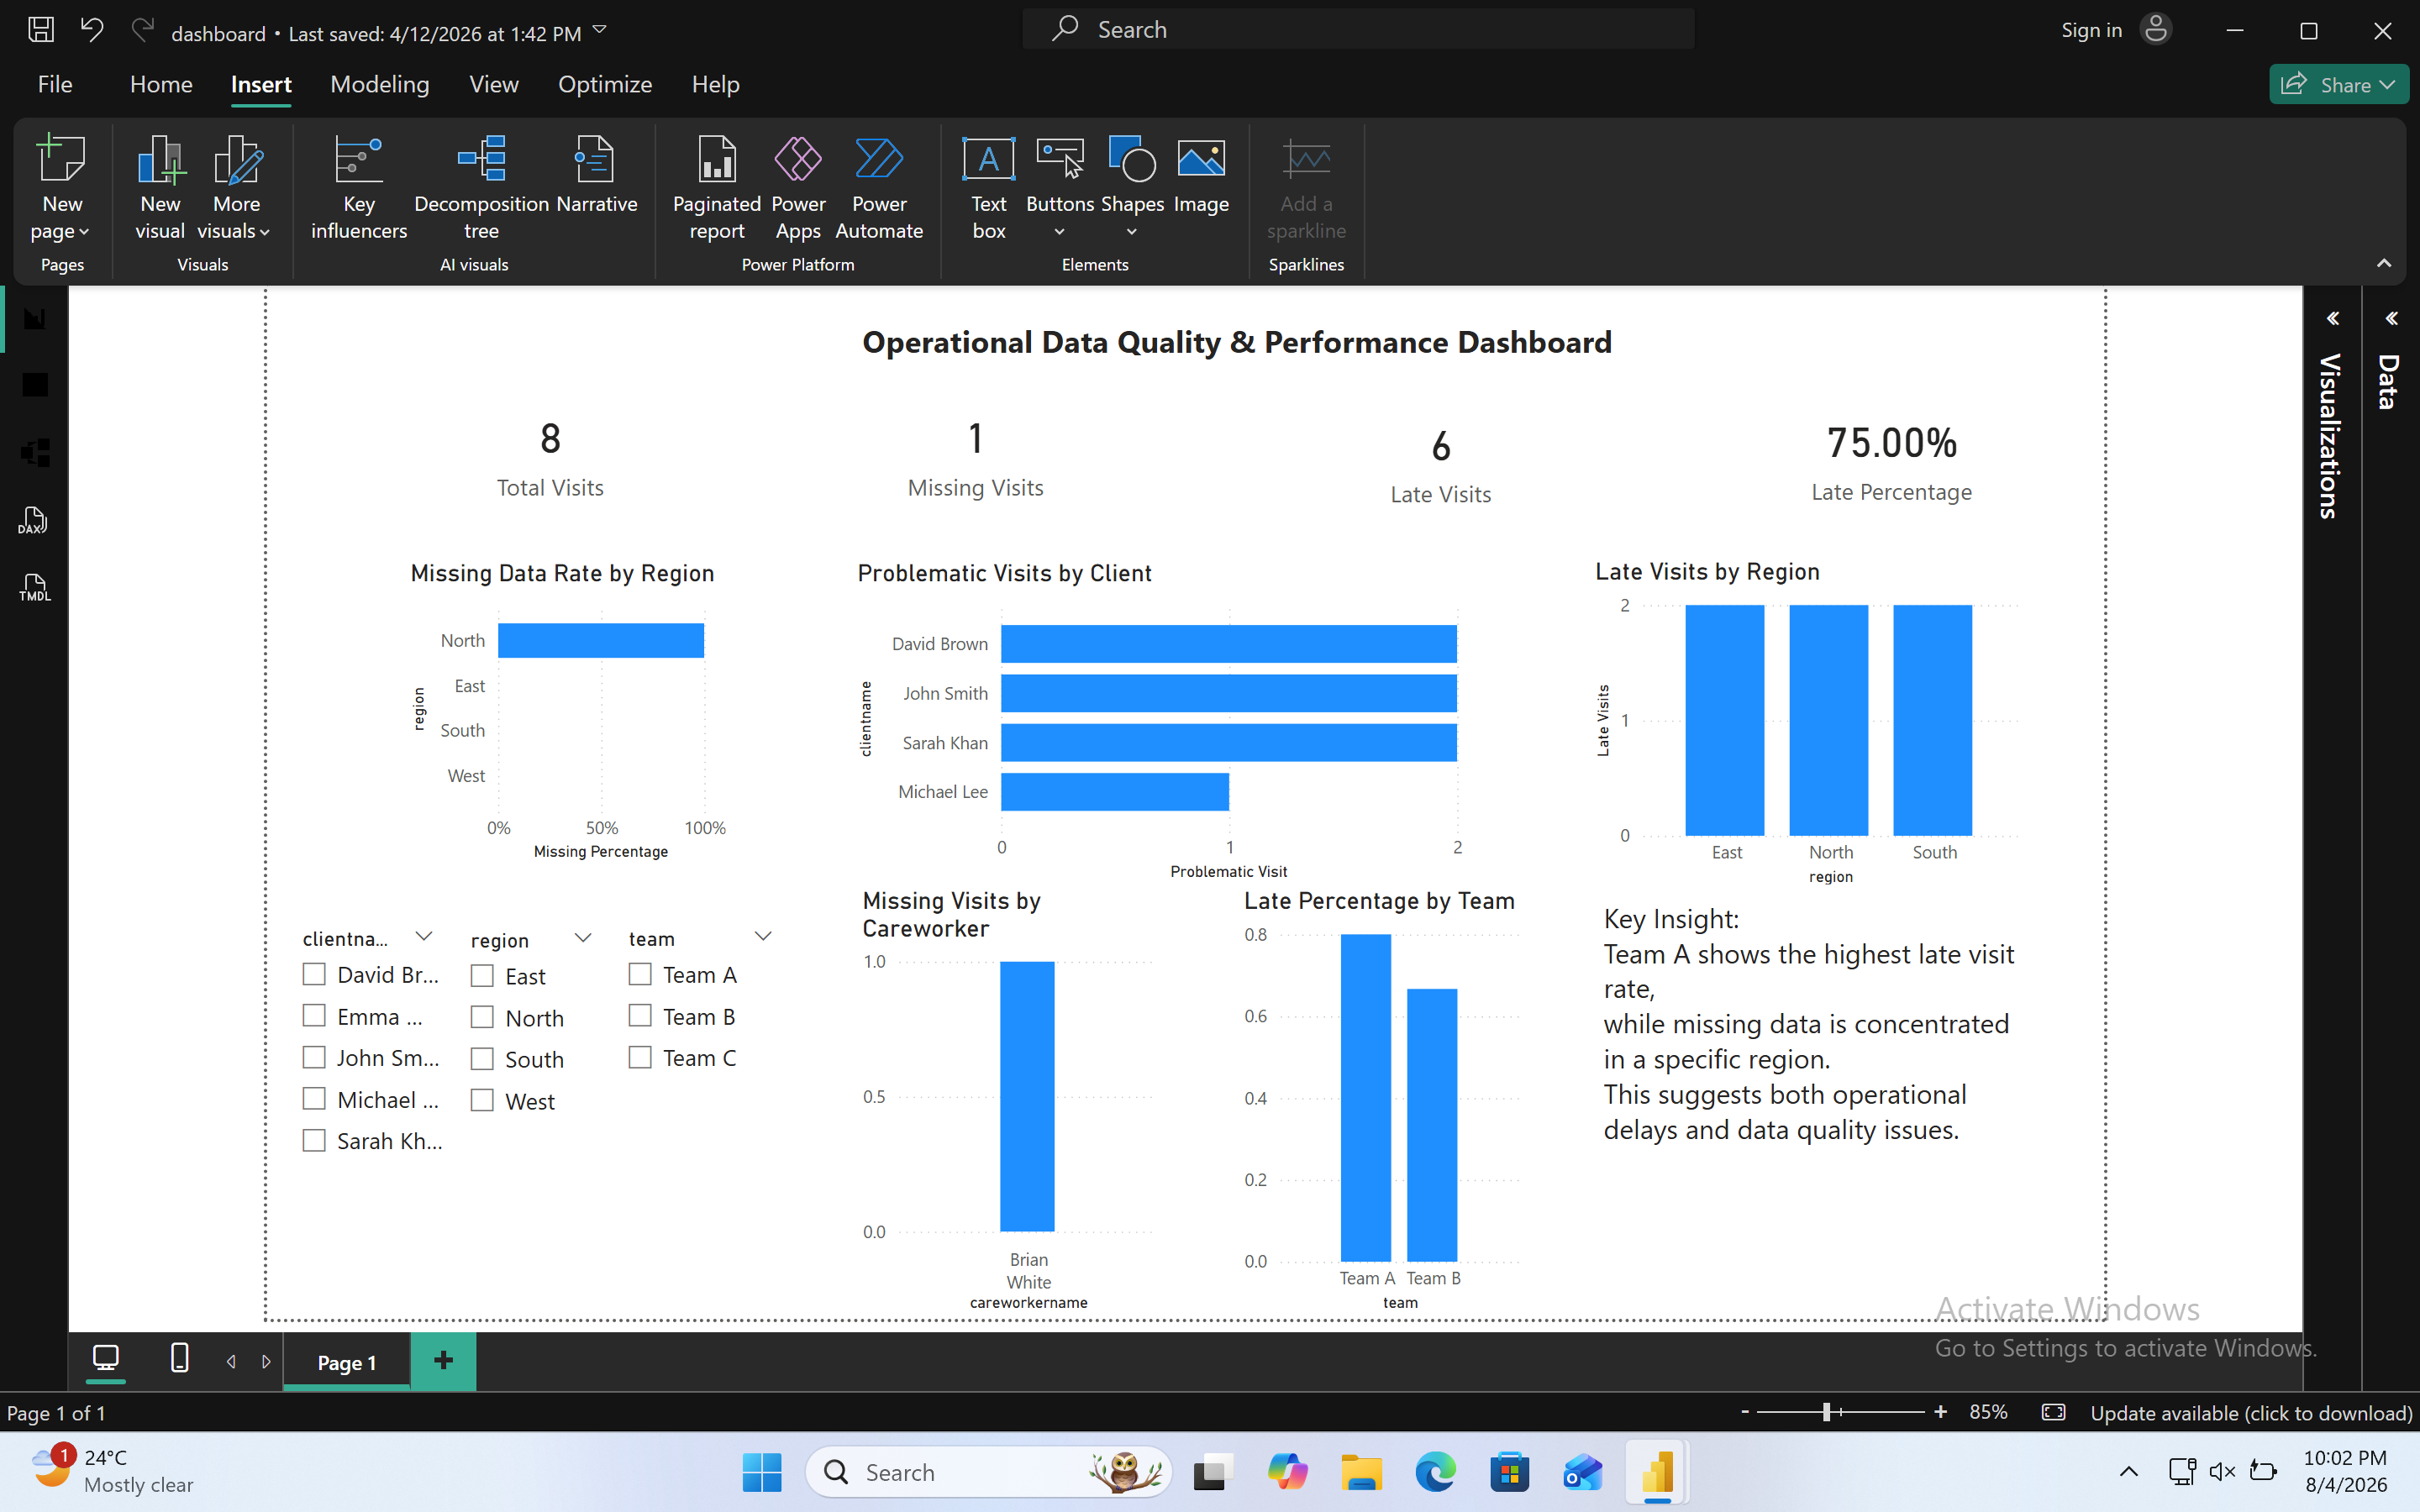

Layout of this report page (visuals, bound fields, positions):
{"tool":"powerbi","page":{"name":"Page 1","canvas":[1280,720],"ordinal":0},"visuals":[{"type":"card","fields":{"Values":["visits2.Total Visits"]},"box":[94.9,15.3,205.2,200.6],"z":0},{"type":"card","fields":{"Values":["visits2.Late Visits"]},"box":[688,18.4,258.8,203.6],"z":1000},{"type":"clusteredColumnChart","title":"Late Visits by Region","fields":{"Category":["clients.region"],"Y":["visits2.Late Visits"]},"box":[920.2,189.9,304.7,232.7],"z":2000},{"type":"hundredPercentStackedBarChart","title":"Missing Data Rate by Region","fields":{"Y":["visits2.Missing Percentage"],"Category":["clients.region"]},"box":[94.9,191.4,229.7,214.4],"z":3000},{"type":"clusteredBarChart","title":"Problematic Visits by Client","fields":{"Y":["visits2.Problematic Visit"],"Category":["clients.clientname"]},"box":[406.5,191.4,431.8,228.1],"z":4000},{"type":"columnChart","title":"Missing Visits by Careworker","fields":{"Y":["visits2.Missing Visits"],"Category":["careworkers.careworkername"]},"box":[410.3,419.5,215.9,300.1],"z":5000},{"type":"slicer","fields":{"Values":["clients.region"]},"box":[128.6,442.5,110.2,209.8],"z":6000},{"type":"slicer","fields":{"Values":["clients.clientname"]},"box":[12.2,441,116.4,264.9],"z":7000},{"type":"card","fields":{"Values":["visits2.Late Percentage"]},"box":[1038.1,45.9,186.8,145.5],"z":8000},{"type":"card","fields":{"Values":["visits2.Missing Visits"]},"box":[391.5,45.9,205.2,139.3],"z":9000},{"type":"columnChart","title":"Late Percentage by Team","fields":{"Y":["visits2.Late Percentage"],"Category":["careworkers.team"]},"box":[675.2,419.5,202.1,300.1],"z":10000},{"type":"slicer","fields":{"Values":["careworkers.team"]},"box":[238.9,441,125.6,209.8],"z":11000},{"type":"textbox","box":[437.9,4.6,552.7,35.2],"z":12000},{"type":"textbox","box":[926.3,422.6,298.6,228.1],"z":13000}]}

Visuals, with their boxes on the page's 1280x720 design canvas (x1, y1, x2, y2). These are canvas units, not pixel positions in the 2420x1512 screenshot, which may show the page scaled, cropped or inside an application window:
card - visits2.Total Visits: BBox(95, 15, 300, 216)
card - visits2.Late Visits: BBox(688, 18, 947, 222)
"Late Visits by Region" clusteredColumnChart: BBox(920, 190, 1225, 423)
"Missing Data Rate by Region" hundredPercentStackedBarChart: BBox(95, 191, 325, 406)
"Problematic Visits by Client" clusteredBarChart: BBox(406, 191, 838, 420)
"Missing Visits by Careworker" columnChart: BBox(410, 420, 626, 720)
slicer - clients.region: BBox(129, 442, 239, 652)
slicer - clients.clientname: BBox(12, 441, 129, 706)
card - visits2.Late Percentage: BBox(1038, 46, 1225, 191)
card - visits2.Missing Visits: BBox(392, 46, 597, 185)
"Late Percentage by Team" columnChart: BBox(675, 420, 877, 720)
slicer - careworkers.team: BBox(239, 441, 364, 651)
textbox: BBox(438, 5, 991, 40)
textbox: BBox(926, 423, 1225, 651)
